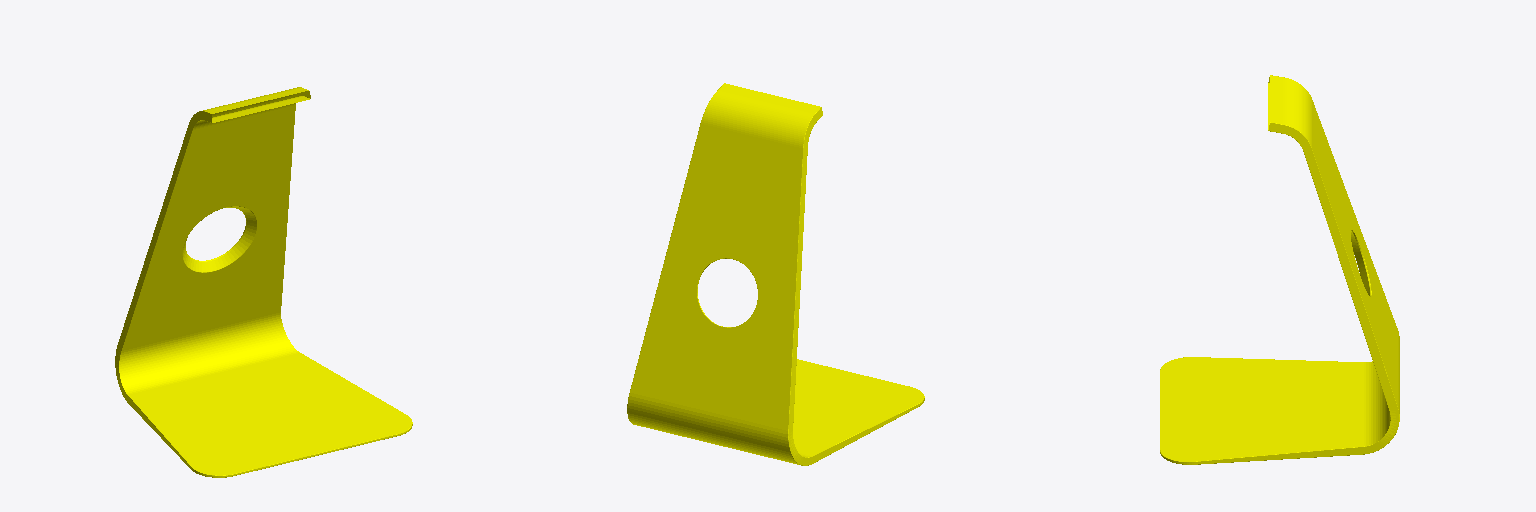
Rendered from com_1.obj.
The picture shows the model from 3 angles: view 1: azimuth 30°, elevation 25°; view 2: azimuth 150°, elevation 25°; view 3: azimuth 270°, elevation 25°; orthographic projection.
Visible parts, largest first — view 1: Apple_iMac_27___leg; view 2: Apple_iMac_27___leg; view 3: Apple_iMac_27___leg.
Part boxes in pixels (x1,y1,x2,y2): Apple_iMac_27___leg: (115, 87, 412, 477); Apple_iMac_27___leg: (627, 83, 924, 465); Apple_iMac_27___leg: (1160, 75, 1399, 464).
Bounding box in the file's own units: 216 × 301 × 208.